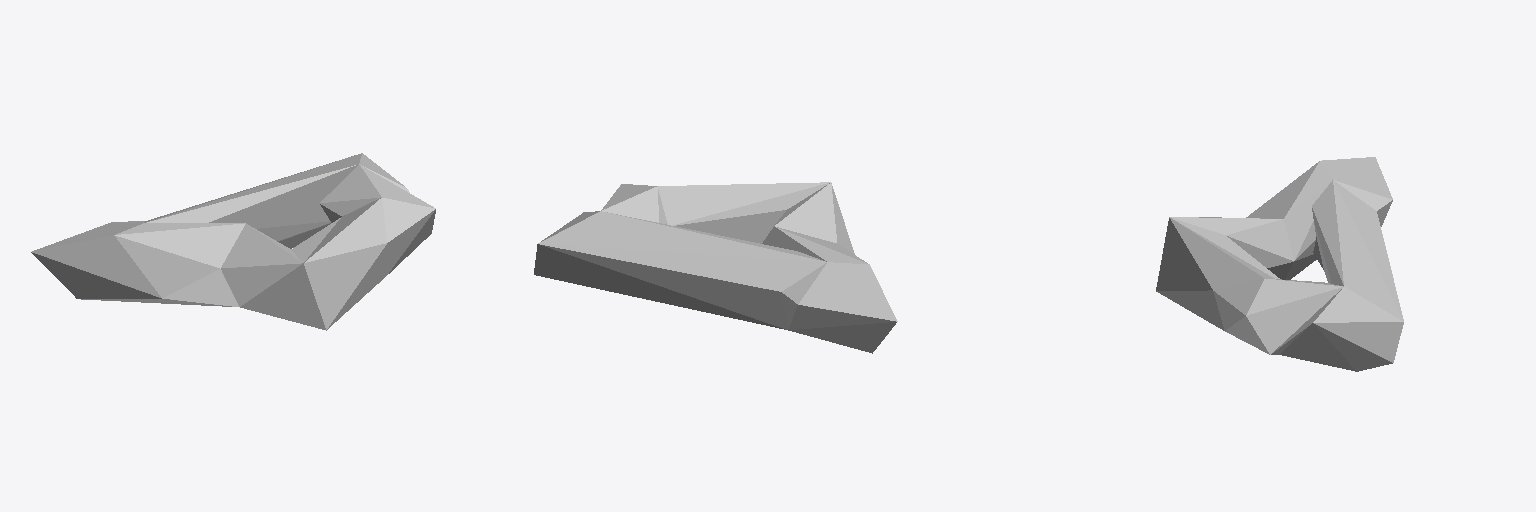
The model's file is GW_outline.obj.
3 renders of one model, left to right at view 1: azimuth 30°, elevation 25°; view 2: azimuth 150°, elevation 25°; view 3: azimuth 270°, elevation 25°, orthographic.
Visible parts, largest first — view 1: GW.001_CUCurve.1694; view 2: GW.001_CUCurve.1694; view 3: GW.001_CUCurve.1694.
Part boxes in pixels (bbox=[...]): GW.001_CUCurve.1694: bbox=[31, 153, 435, 330]; GW.001_CUCurve.1694: bbox=[534, 182, 897, 353]; GW.001_CUCurve.1694: bbox=[1156, 157, 1403, 371].
Size of the model in its own units: 0.0208 by 0.004 by 0.0126.